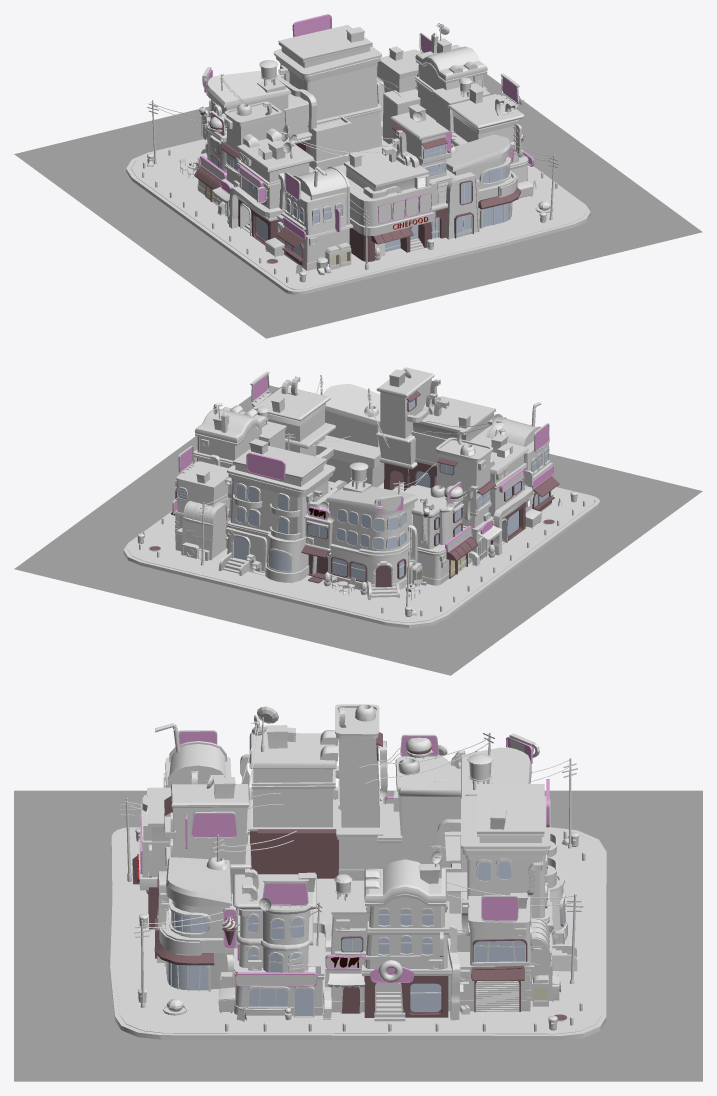
Rendered from block_2x2_Casual_w10.fbx.
The picture shows the model from 3 angles, top to bottom: view 1: azimuth 30°, elevation 25°; view 2: azimuth 150°, elevation 25°; view 3: azimuth 270°, elevation 25°; orthographic projection. The views are drawn at different scales.
Parts seen in each view (by area): view 1: stores_road_50_50; view 2: stores_road_50_50; view 3: stores_road_50_50.
Part boxes in pixels (x1,y1,x2,y2): stores_road_50_50: [14, 14, 702, 338]; stores_road_50_50: [14, 367, 702, 675]; stores_road_50_50: [14, 704, 702, 1081].
Size of the model in its own units: 50 by 15.39 by 50.
